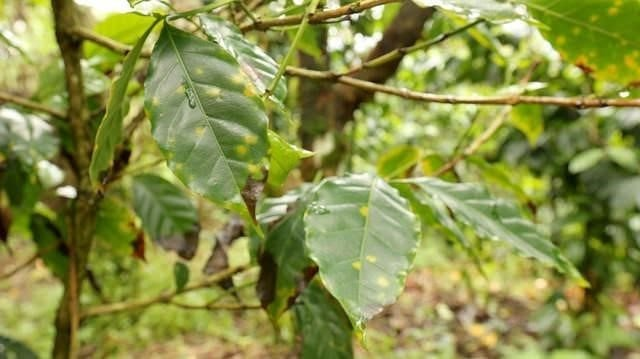roya: (148, 49, 412, 309)
